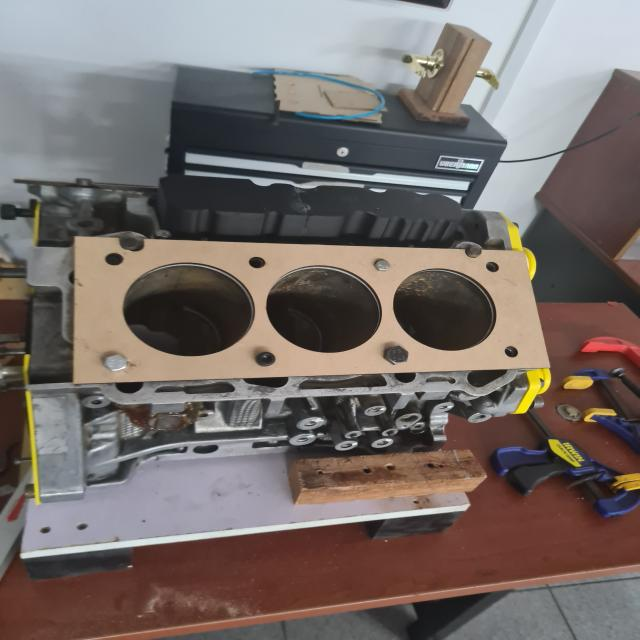vista1: (73, 237, 549, 382)
